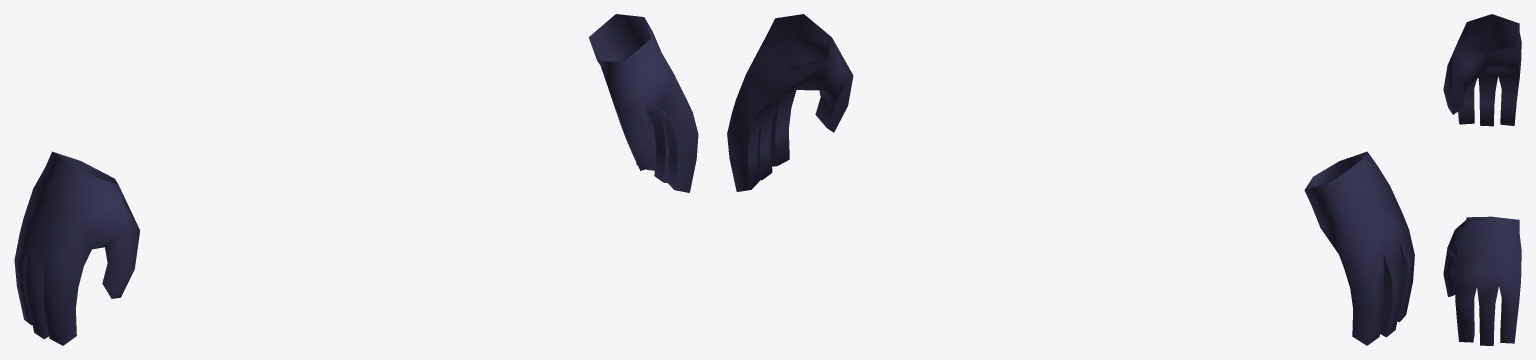
File: hum_netherim_02_59f62b9f.glb
3 renders of one model, left to right at view 1: azimuth 30°, elevation 25°; view 2: azimuth 150°, elevation 25°; view 3: azimuth 270°, elevation 25°, orthographic. The views are drawn at different scales.
Bounding box in the file's own units: 1.7 × 0.4201 × 0.2485.
1 material, 1 textured.
